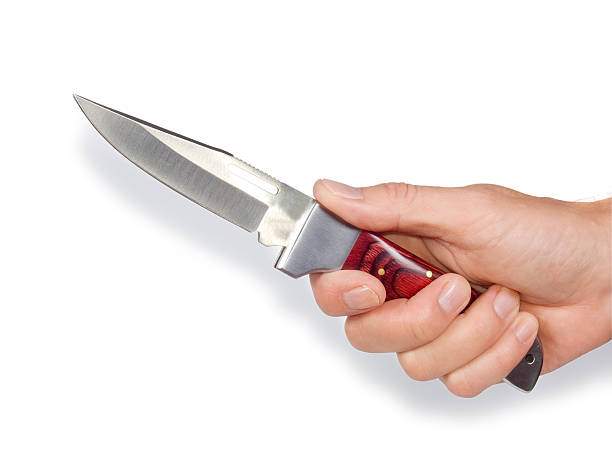knife: (69, 91, 545, 396)
